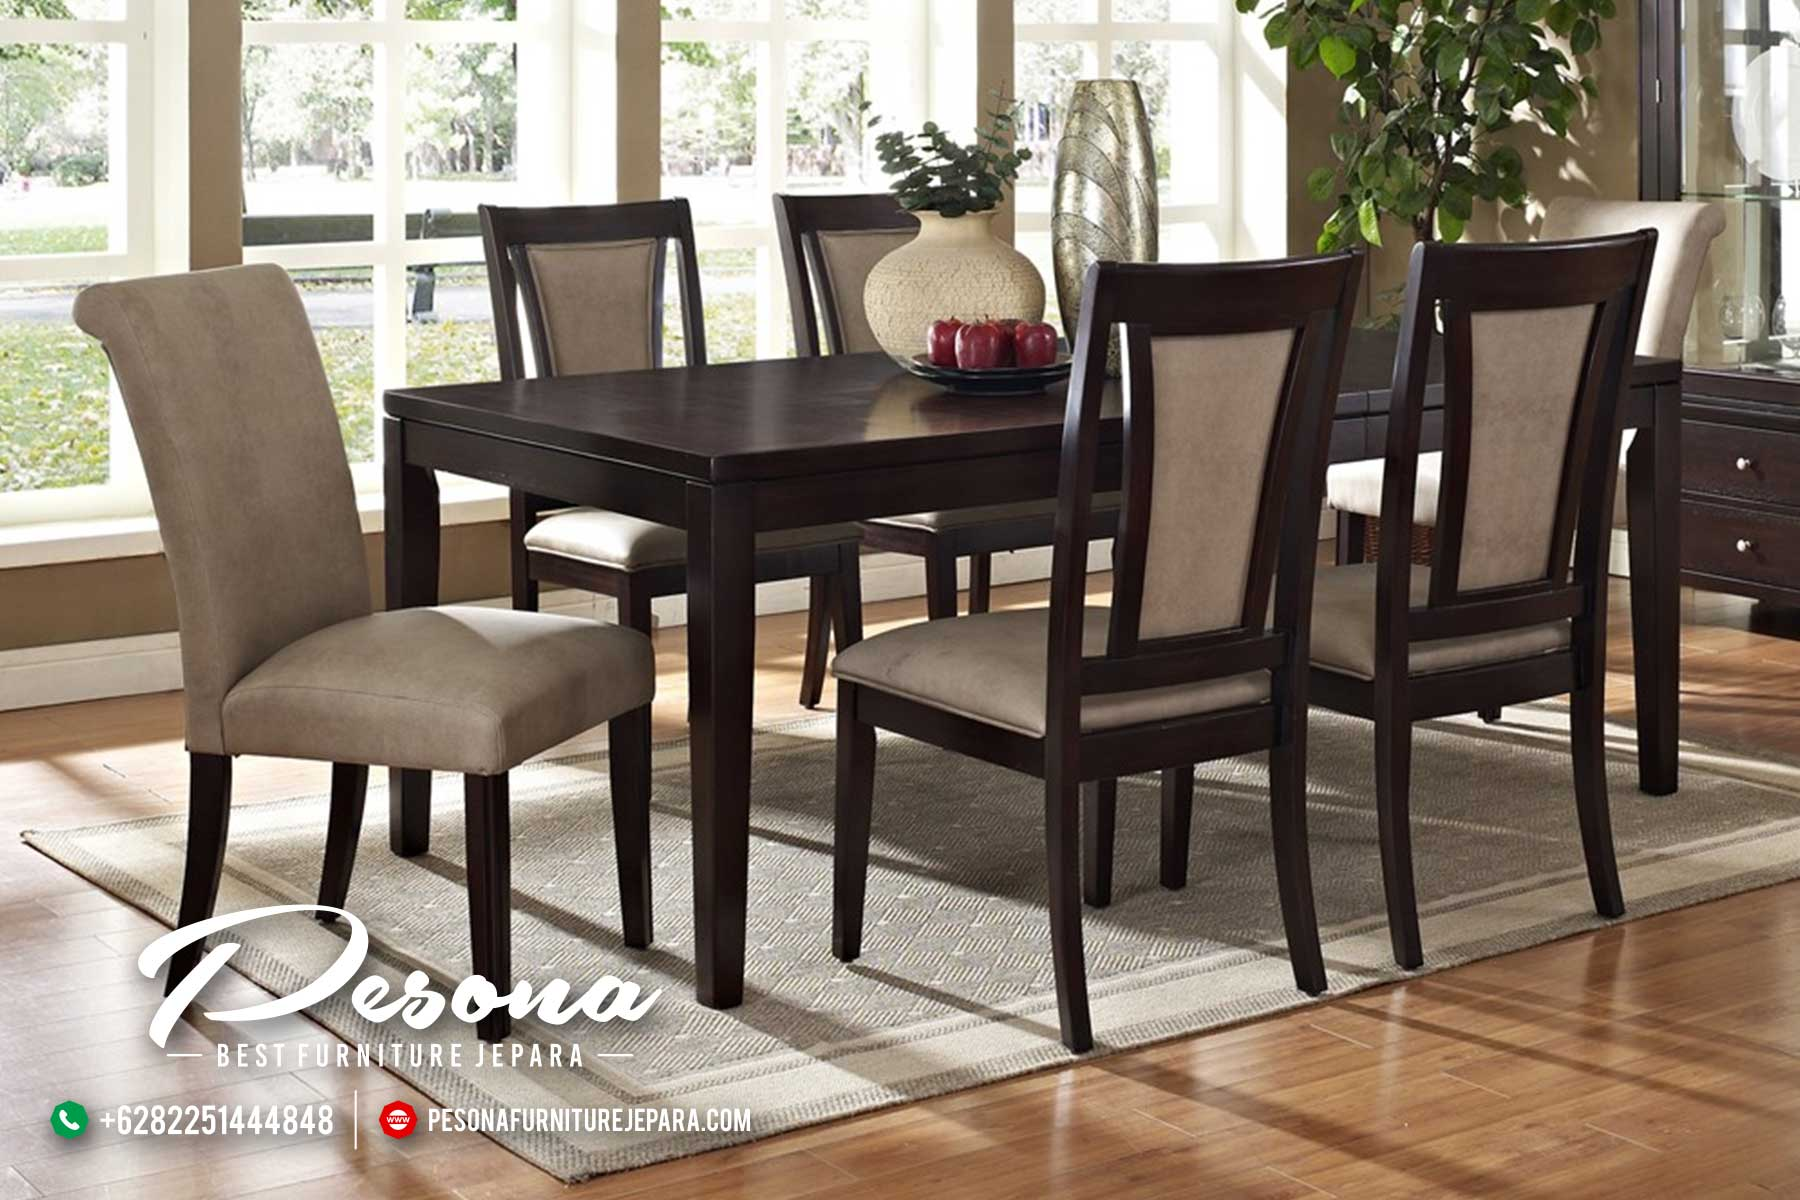Carving Chair: (60, 256, 682, 1021), (842, 258, 1343, 1047)
Carving Table: (366, 346, 1567, 913)
